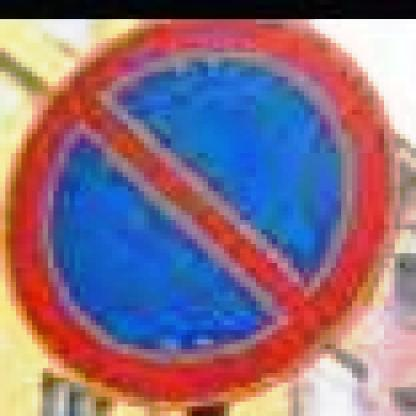No parking: (5, 19, 416, 416)
